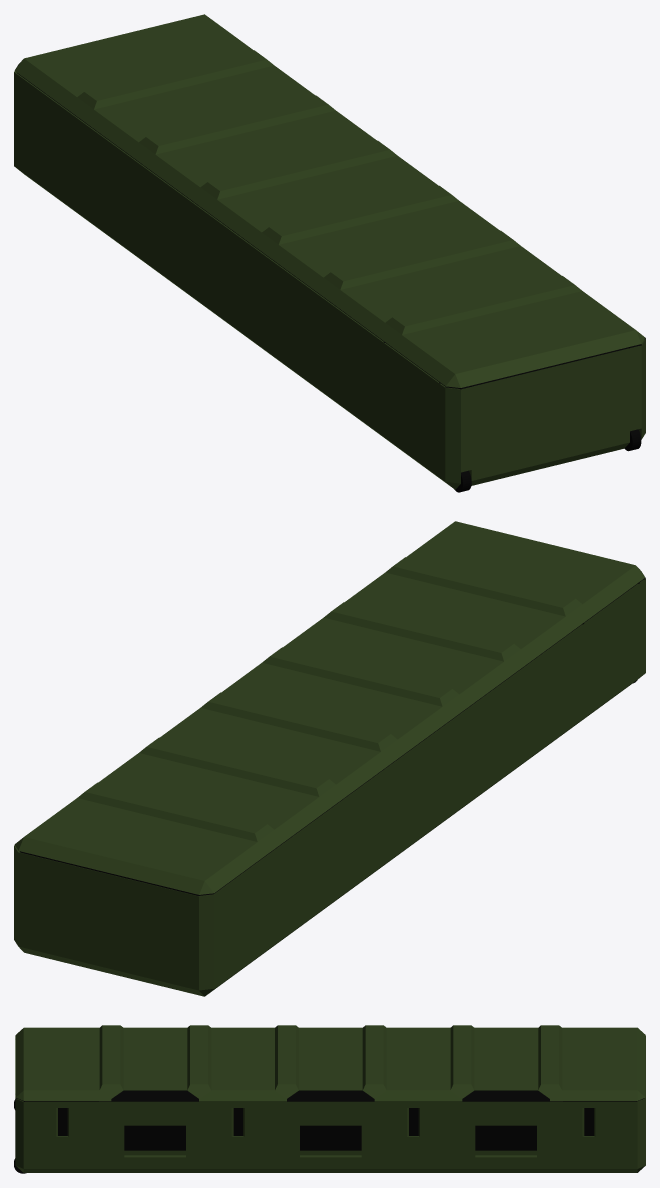
3 views of the same model, one above another, from view 1: azimuth 30°, elevation 25°; view 2: azimuth 150°, elevation 25°; view 3: azimuth 270°, elevation 25° (orthographic). The views are drawn at different scales.
Visible parts, largest first — view 1: Cube; view 2: Cube; view 3: Cube.
Part boxes in pixels (x1,y1,x2,y2): Cube: [14, 14, 645, 489]; Cube: [14, 521, 645, 996]; Cube: [15, 1025, 645, 1172].
Bounding box in the file's own units: 200 × 118 × 766.
